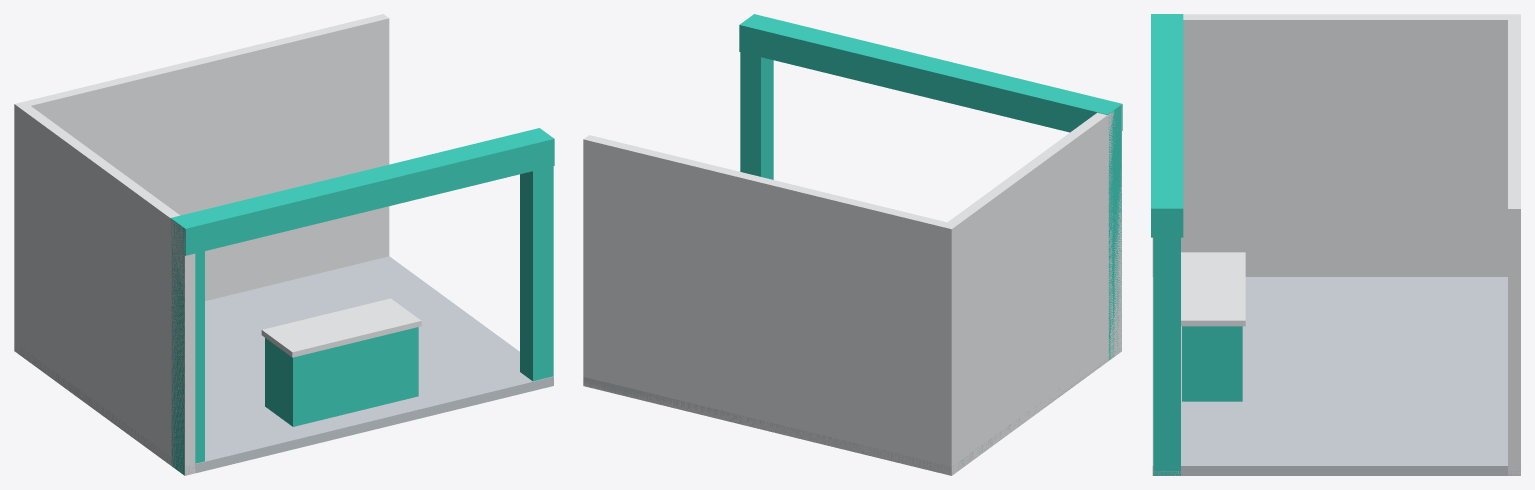
3 renders of one model, left to right at view 1: azimuth 30°, elevation 25°; view 2: azimuth 150°, elevation 25°; view 3: azimuth 270°, elevation 25°, orthographic. The views are drawn at different scales.
Visible parts, largest first — view 1: Exhibition Booth Concept; view 2: Exhibition Booth Concept; view 3: Exhibition Booth Concept.
Part boxes in pixels (<box>): Exhibition Booth Concept: <box>14,14,554,475</box>; Exhibition Booth Concept: <box>583,14,1122,475</box>; Exhibition Booth Concept: <box>1151,14,1520,475</box>.
Size of the model in its own units: 5 by 3.2 by 4.02.
